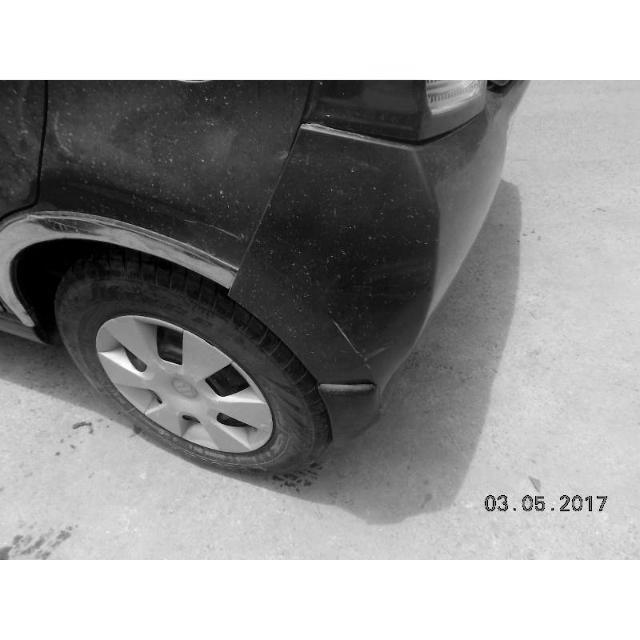rear-bumper-dent: (218, 148, 473, 464)
